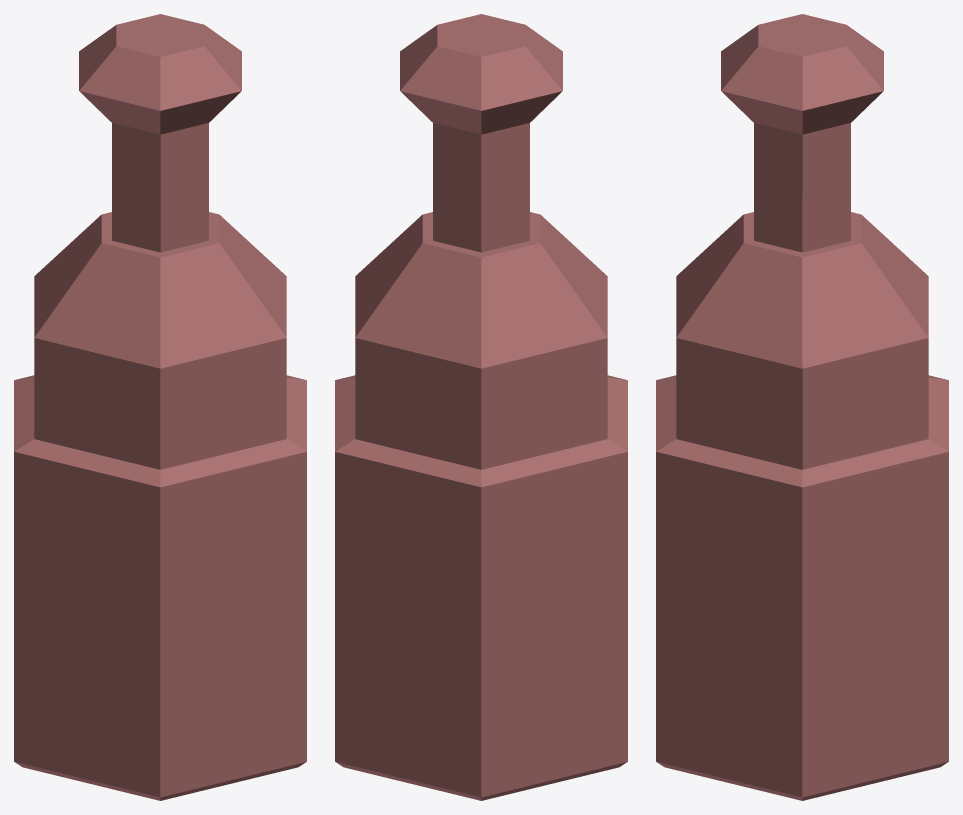
Rendered from TurretBase.fbx.
3 views of the same model, side by side, from view 1: azimuth 30°, elevation 25°; view 2: azimuth 150°, elevation 25°; view 3: azimuth 270°, elevation 25° (orthographic).
Parts seen in each view (by area): view 1: Hex; view 2: Hex; view 3: Hex.
Part boxes in pixels (bbox=[...]): Hex: bbox=[14, 14, 306, 800]; Hex: bbox=[335, 14, 627, 800]; Hex: bbox=[656, 14, 948, 800].
Bounding box in the file's own units: 10 × 22.77 × 8.66.
